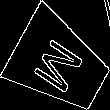M_SE: (30, 31, 90, 97)
